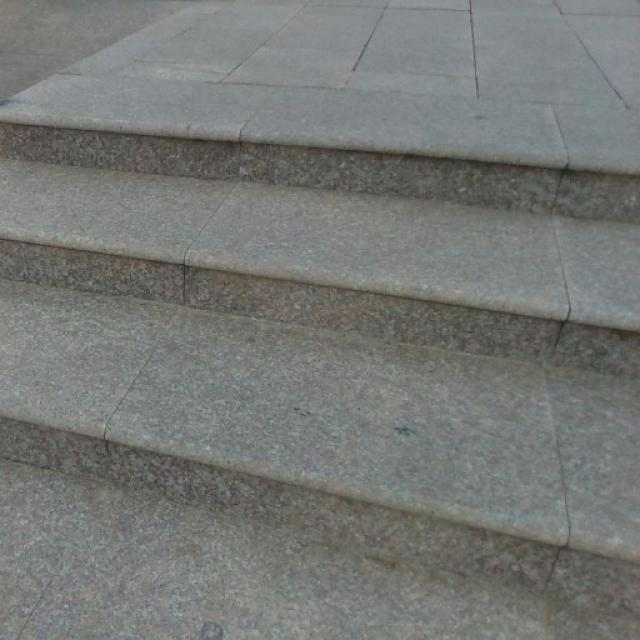stair: (0, 0, 639, 604)
